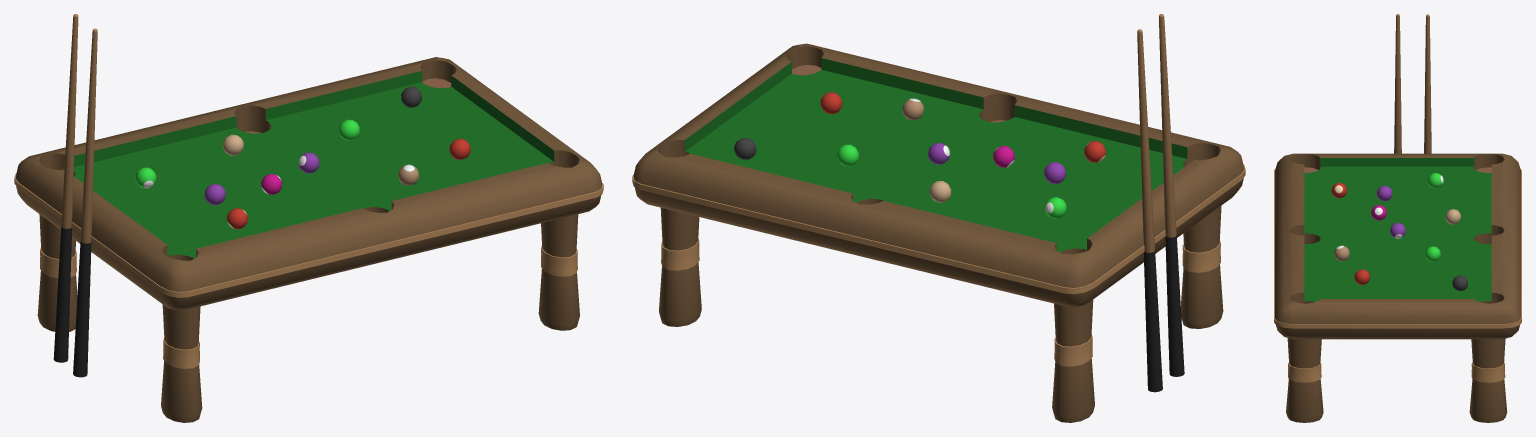
Rendered from Billiard.fbx.
3 renders of one model, left to right at view 1: azimuth 30°, elevation 25°; view 2: azimuth 150°, elevation 25°; view 3: azimuth 270°, elevation 25°, orthographic. The views are drawn at different scales.
Parts seen in each view (by area): view 1: Billiard-Table, Billiard-bat-1, Billiard-bat-2; view 2: Billiard-Table, Billiard-bat-1, Billiard-bat-2; view 3: Billiard-Table, Billiard-bat-1, Billiard-bat-2.
Boxes of the visible parts, box(x1,y1,x2,y2) form: Billiard-Table: box(14, 57, 603, 422); Billiard-bat-1: box(73, 28, 97, 377); Billiard-bat-2: box(53, 14, 78, 362); Billiard-Table: box(632, 43, 1245, 422); Billiard-bat-1: box(1159, 14, 1184, 376); Billiard-bat-2: box(1137, 29, 1162, 392); Billiard-Table: box(1274, 153, 1521, 422); Billiard-bat-1: box(1394, 14, 1401, 153); Billiard-bat-2: box(1424, 14, 1431, 153).
Size of the model in its own units: 3.67 by 2.66 by 2.32.
